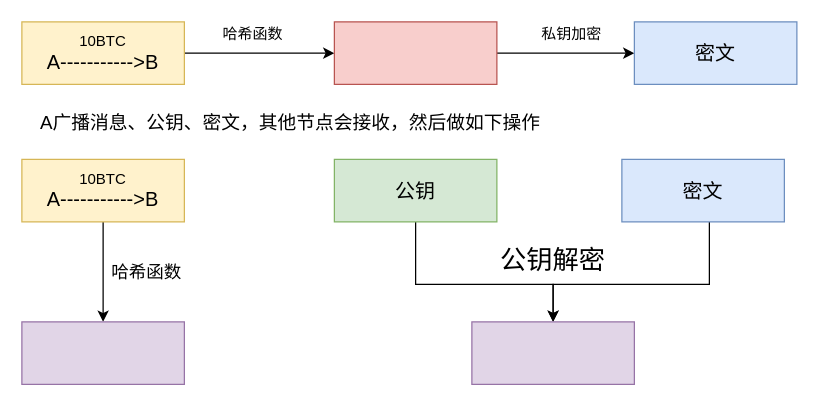
Some shapes in this 819 by 406 pixel diagram are drawn without their labels. Each missing label, with the centre of its shape:
"摘要" goes at (415,52).
"摘要1" goes at (102,352).
"摘要2" goes at (552,352).
